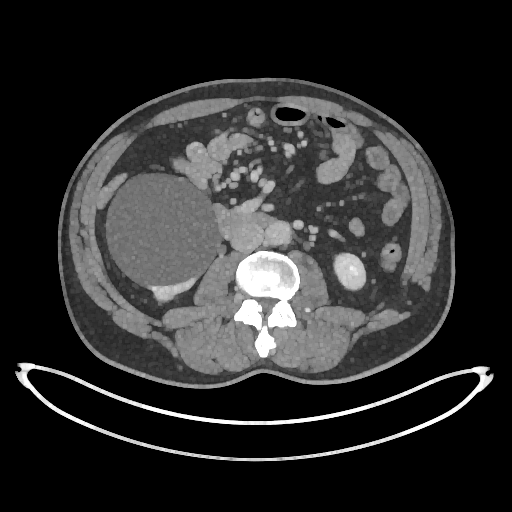Lesion: (105, 173, 220, 286)
